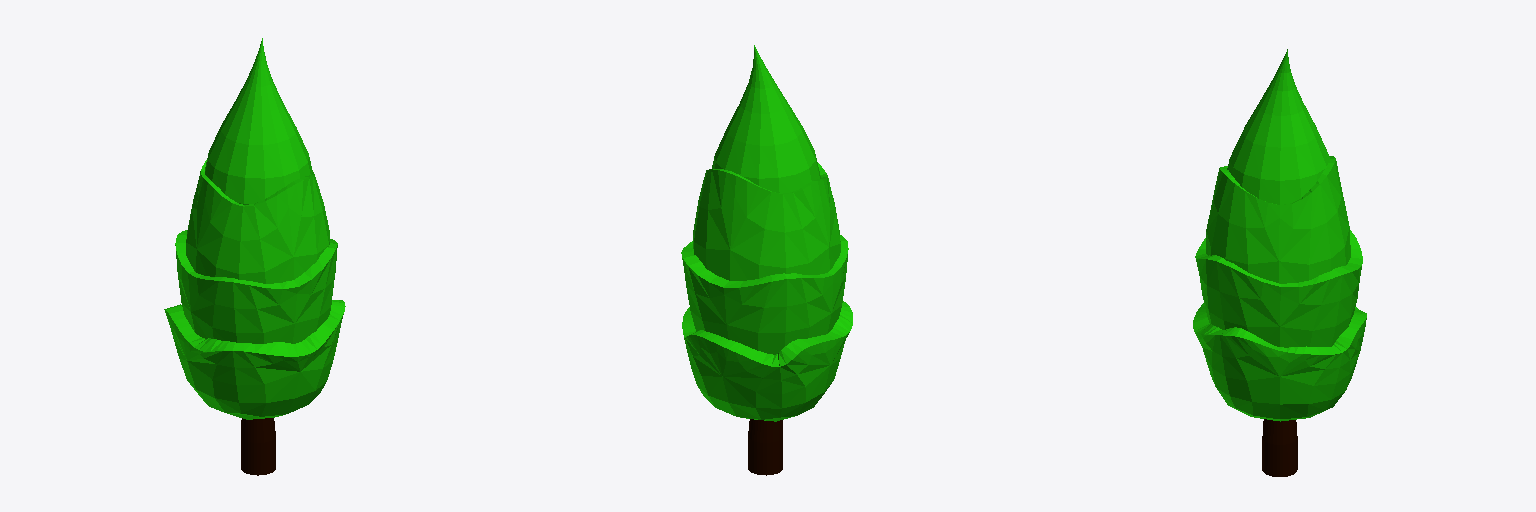
File: tree2.obj
3 renders of one model, left to right at view 1: azimuth 30°, elevation 25°; view 2: azimuth 150°, elevation 25°; view 3: azimuth 270°, elevation 25°, orthographic.
Visible parts, largest first — view 1: tree2; view 2: tree2; view 3: tree2.
Boxes of the visible parts, x1=… form: tree2: x1=164, y1=38, x2=345, y2=475; tree2: x1=681, y1=45, x2=852, y2=475; tree2: x1=1193, y1=49, x2=1366, y2=476.
Bounding box in the file's own units: 2.78 × 7.94 × 2.95.